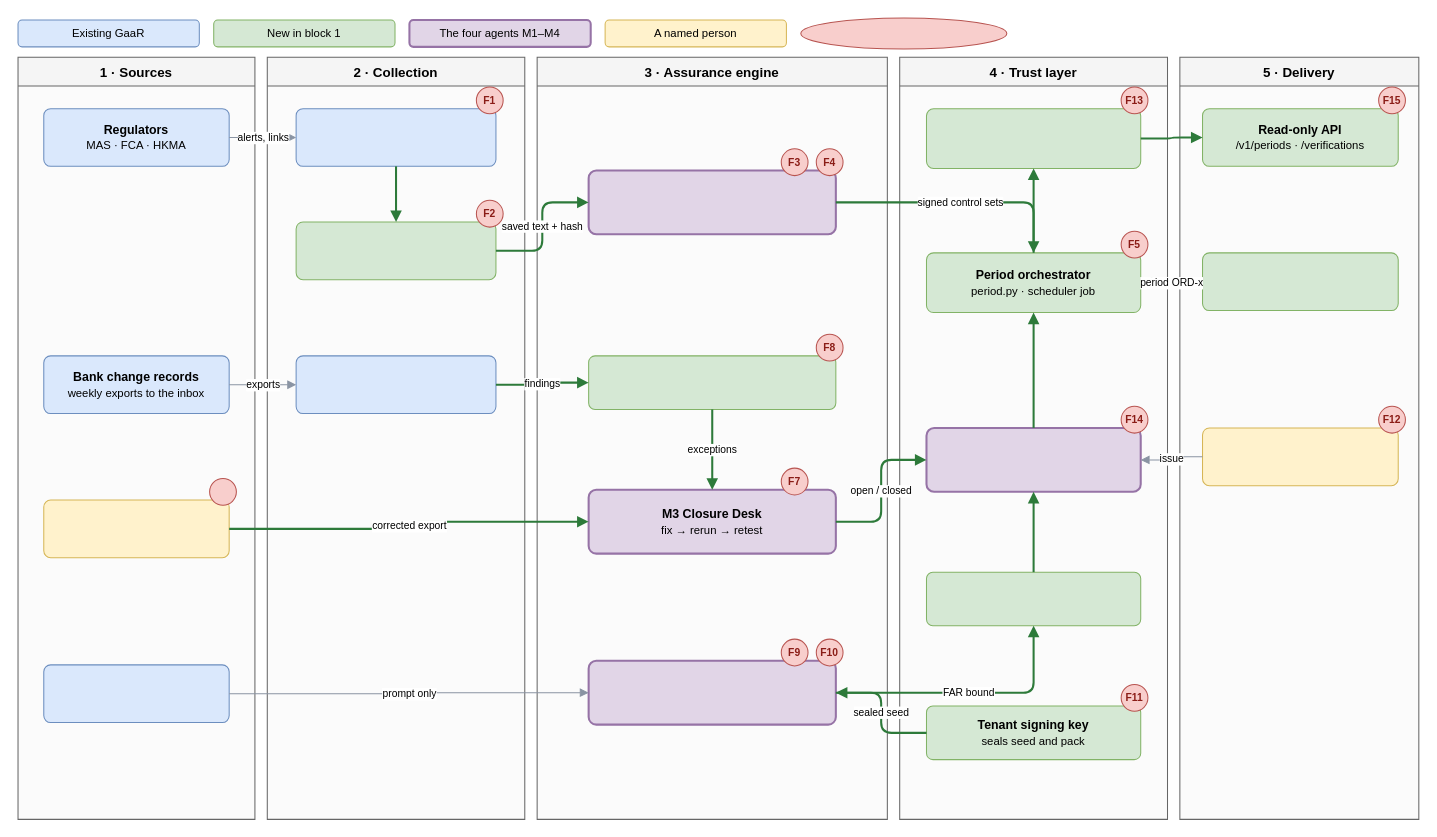
The diagram is 1437 pixels wide and 837 high, and some of its shapes have lost their labels. Each missing label, with the centre of its shape:
"Agent under test demo: careful_agent" belongs at [136,693].
"Control owner fixes, sends corrected export" belongs at [136,528].
"F# = failure point (page 2)" belongs at [903,33].
"F6" belongs at [222,491].
"gaar_raas.py the inbox's actions" belongs at [1299,281].
"Inbox: marked relevant a person saves the text" belongs at [395,250].
"M1 Reg-to-Control propose · decide per item" belongs at [711,202].
"M2 Outcome Verifier 500 planted + 500 clean" belongs at [711,692].
"M4 Warranty only if the period is complete" belongs at [1033,459].
"Named people decide · retest · issue" belongs at [1299,456].
"Pack passport hash · Merkle root · Ed25519" belongs at [1033,138].
"Recurring series change_authorization:2" belongs at [395,384].
"Regulatory watch alerts · official indexes" belongs at [395,137].
"Series hook 1 finding → 1 exception" belongs at [712,382].
"Upper-bound tier ≤1% · 1–3% · >3%" belongs at [1033,598].
